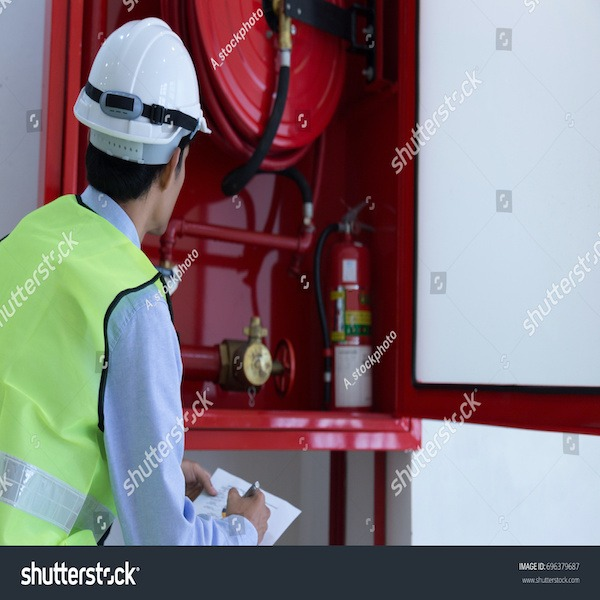helmet: (80, 18, 213, 147)
vest: (4, 197, 130, 539)
